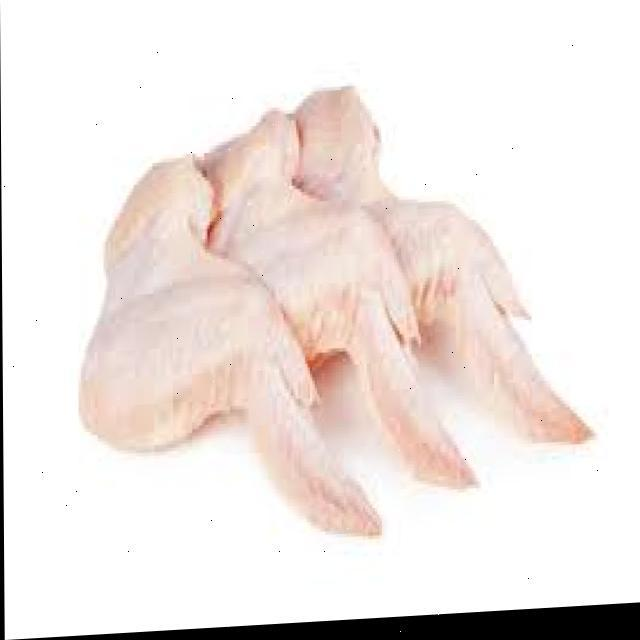wing: (292, 62, 598, 470), (87, 158, 380, 562), (190, 107, 476, 516)
